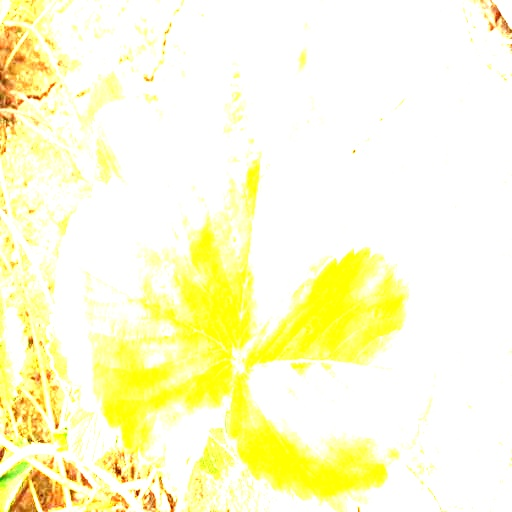Leaf Spot: (165, 0, 356, 354), (222, 244, 439, 511), (52, 171, 235, 472)
